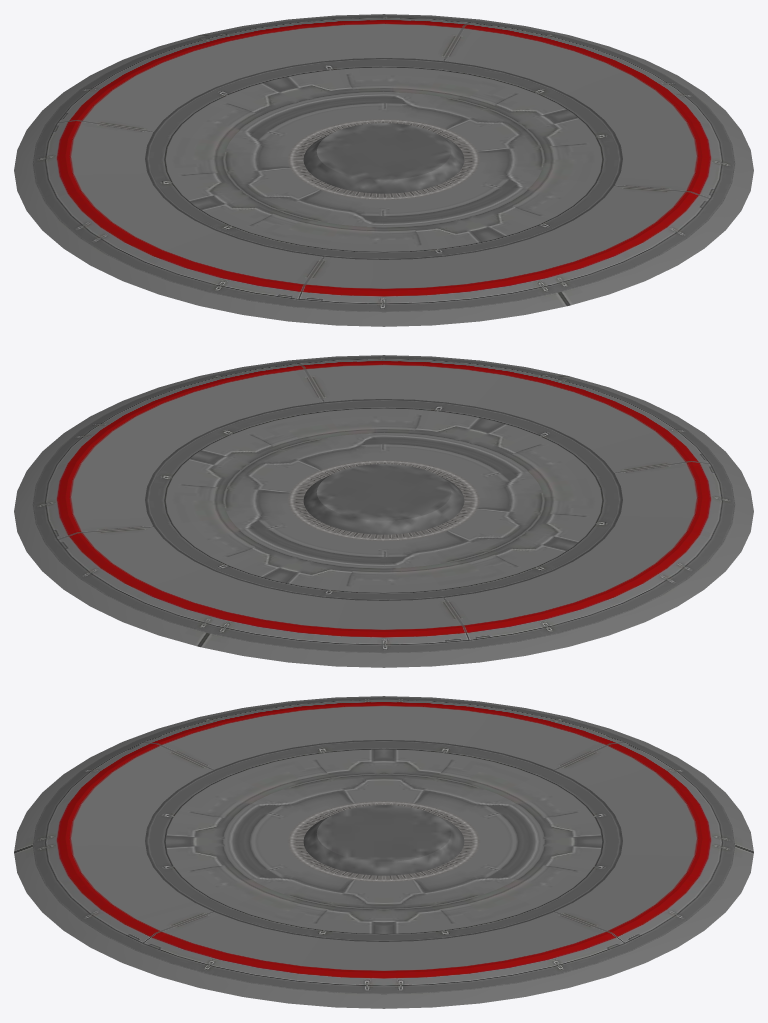
Rendered from core_platform.glb.
3 renders of one model, top to bottom at view 1: azimuth 30°, elevation 25°; view 2: azimuth 150°, elevation 25°; view 3: azimuth 270°, elevation 25°, orthographic.
Parts seen in each view (by area): view 1: Platform_Round1; view 2: Platform_Round1; view 3: Platform_Round1.
Part boxes in pixels (x1,y1,x2,y2): Platform_Round1: (14,14,753,326); Platform_Round1: (14,355,753,667); Platform_Round1: (14,696,753,1008).
Size of the model in its own units: 5.99 by 0.1704 by 5.99.
Materials: 2 (2 with a texture image).
